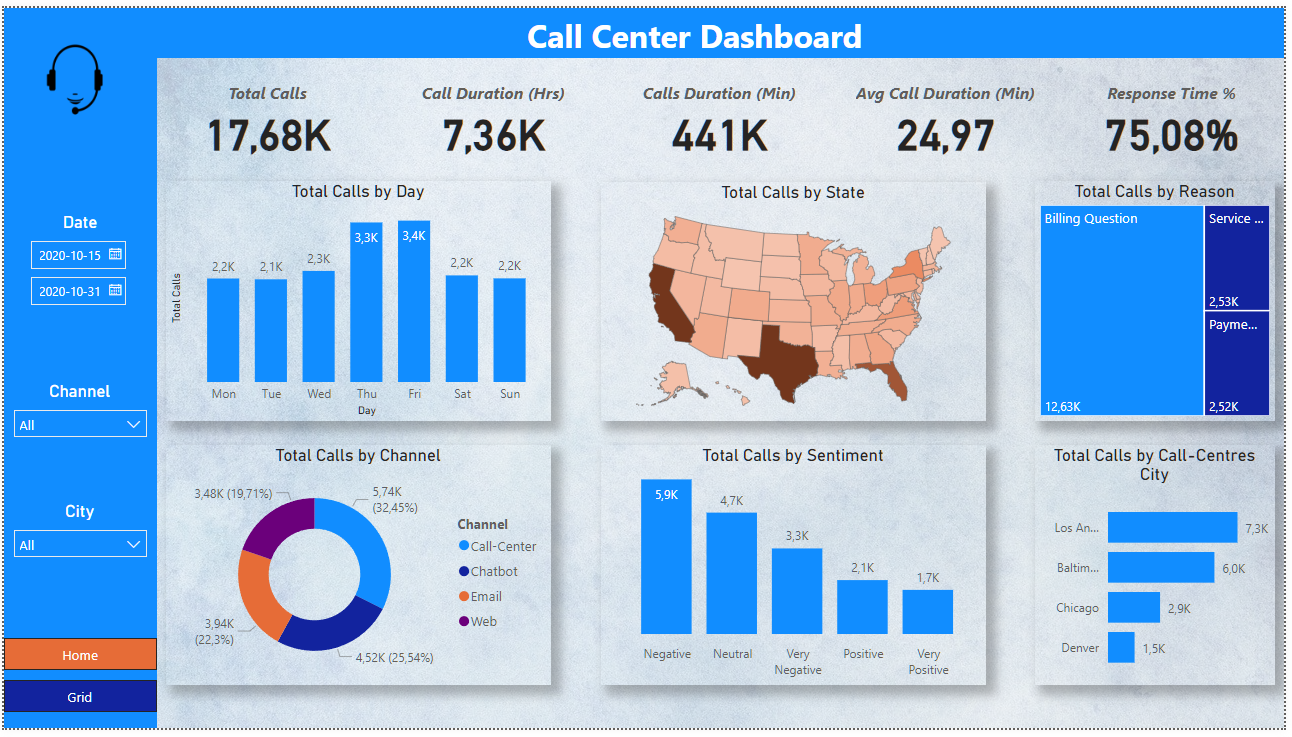

The page's visual inventory and layout, read from the dashboard file:
{"tool":"powerbi","page":{"name":"Home","canvas":[1280,720],"ordinal":0},"visuals":[{"type":"shape","box":[0,0,1280,50],"z":0},{"type":"shape","box":[0,49.6,152.6,670.6],"z":1000},{"type":"cardVisual","fields":{"Data":["Key Measures.Total Calls","Key Measures.Call Duration (hours)","Key Measures.Calls Duration (Min)","Key Measures.Avg Call Duration","Key Measures.Response Time %"]},"box":[152.6,49.6,1127.4,123.4],"z":2000},{"type":"textbox","box":[487.1,0,418,56.6],"z":3000},{"type":"columnChart","fields":{"Category":["Date Table.Day"],"Y":["Key Measures.Total Calls"]},"box":[162,173,385,240],"z":4000},{"type":"shapeMap","fields":{"Category":["Call Center.State"],"Value":["Key Measures.Total Calls"]},"box":[596.5,174,385,239],"z":5000},{"type":"treemap","fields":{"Values":["Key Measures.Total Calls"],"Group":["Call Center.Reason"]},"box":[1031,173,240,240],"z":6000},{"type":"donutChart","fields":{"Category":["Call Center.Channel"],"Y":["Key Measures.Total Calls"]},"box":[162,437,385,240],"z":7000},{"type":"columnChart","fields":{"Category":["Call Center.Sentiment"],"Y":["Key Measures.Total Calls"]},"box":[597,437,385,240],"z":8000},{"type":"clusteredBarChart","fields":{"Y":["Key Measures.Total Calls"],"Category":["Call Center.Call-Centres City"]},"box":[1031,437,240,240],"z":9000},{"type":"slicer","title":"Date","fields":{"Values":["Date Table.Date"]},"box":[14,204,126,120],"z":10000},{"type":"slicer","title":"Channel","fields":{"Values":["Call Center.Channel"]},"box":[0,373,153,63],"z":11000},{"type":"slicer","title":"City","fields":{"Values":["Call Center.City"]},"box":[0,493,153,70],"z":12000},{"type":"image","box":[0,0,144,144],"z":13000},{"type":"pageNavigator","box":[0,630,153,74],"z":14000}]}

Visuals, with their boxes in screenshot pixels (x1, y1, x2, y2), scaled from the page's 1280x720 canvas onto the 1292x737 screenshot:
shape: {"left": 0, "top": 0, "right": 1291, "bottom": 51}
shape: {"left": 0, "top": 51, "right": 154, "bottom": 736}
cardVisual - Key Measures.Total Calls x Key Measures.Call Duration (hours): {"left": 154, "top": 51, "right": 1291, "bottom": 177}
textbox: {"left": 492, "top": 0, "right": 914, "bottom": 58}
columnChart - Date Table.Day x Key Measures.Total Calls: {"left": 164, "top": 177, "right": 552, "bottom": 423}
shapeMap - Call Center.State x Key Measures.Total Calls: {"left": 602, "top": 178, "right": 991, "bottom": 423}
treemap - Key Measures.Total Calls x Call Center.Reason: {"left": 1041, "top": 177, "right": 1283, "bottom": 423}
donutChart - Call Center.Channel x Key Measures.Total Calls: {"left": 164, "top": 447, "right": 552, "bottom": 693}
columnChart - Call Center.Sentiment x Key Measures.Total Calls: {"left": 603, "top": 447, "right": 991, "bottom": 693}
clusteredBarChart - Key Measures.Total Calls x Call Center.Call-Centres City: {"left": 1041, "top": 447, "right": 1283, "bottom": 693}
"Date" slicer: {"left": 14, "top": 209, "right": 141, "bottom": 332}
"Channel" slicer: {"left": 0, "top": 382, "right": 154, "bottom": 446}
"City" slicer: {"left": 0, "top": 505, "right": 154, "bottom": 576}
image: {"left": 0, "top": 0, "right": 145, "bottom": 147}
pageNavigator: {"left": 0, "top": 645, "right": 154, "bottom": 721}
